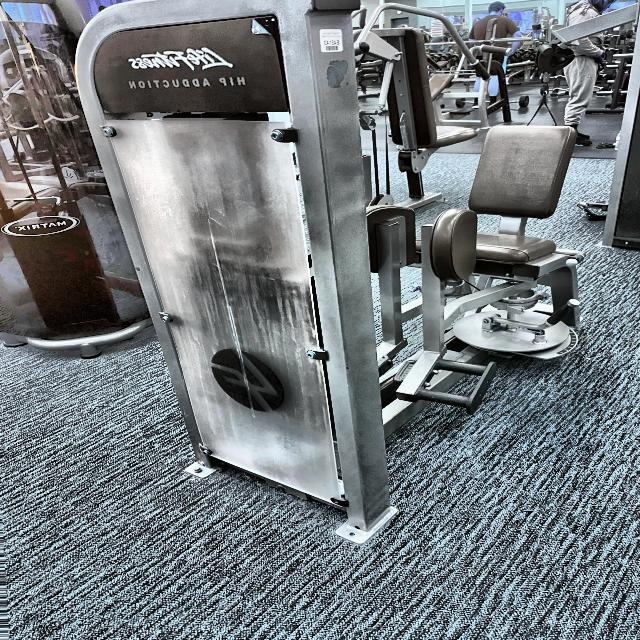hip_adduction_machine: (369, 67, 594, 439), (121, 67, 249, 108)
